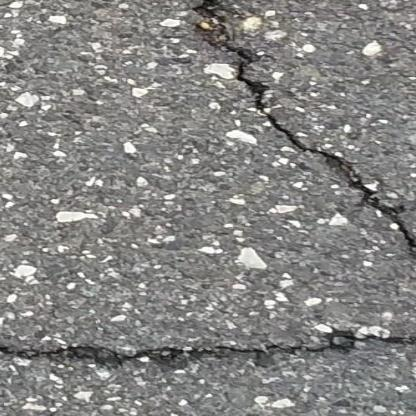Cracks: (168, 0, 416, 269), (0, 271, 416, 416)
